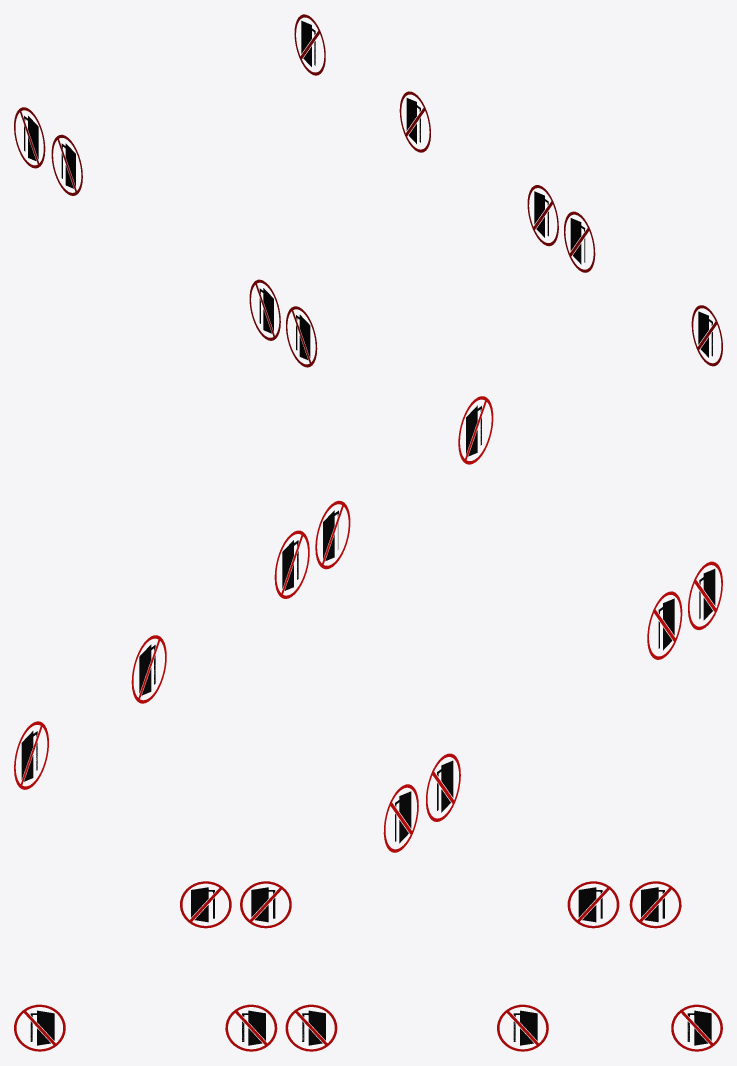
The model's file is Alert Demo.fbx.
The picture shows the model from 3 angles, top to bottom: view 1: azimuth 30°, elevation 25°; view 2: azimuth 150°, elevation 25°; view 3: azimuth 270°, elevation 25°; orthographic projection. The views are drawn at different scales.
Visible parts, largest first — view 1: no part large enough to name; view 2: no part large enough to name; view 3: SketchUp.032, SketchUp.012, SketchUp.028, SketchUp.008, SketchUp.023, SketchUp.024, SketchUp.019, SketchUp, SketchUp.007, SketchUp.014, SketchUp.017, SketchUp.009 (+6 smaller).
Boxes of the visible parts, <box> form: SketchUp.032: <box>225,1004,277,1051</box>; SketchUp.012: <box>567,881,619,928</box>; SketchUp.028: <box>671,1004,722,1051</box>; SketchUp.008: <box>497,1004,548,1051</box>; SketchUp.023: <box>240,881,291,928</box>; SketchUp.024: <box>285,1004,337,1051</box>; SketchUp.019: <box>14,1004,65,1051</box>; SketchUp: <box>629,881,681,928</box>; SketchUp.007: <box>180,881,231,928</box>; SketchUp.014: <box>578,887,602,917</box>; SketchUp.017: <box>30,1010,54,1040</box>; SketchUp.009: <box>513,1010,537,1040</box>.
Bounding box in the file's own units: 1.41 × 0.25 × 3.42.
